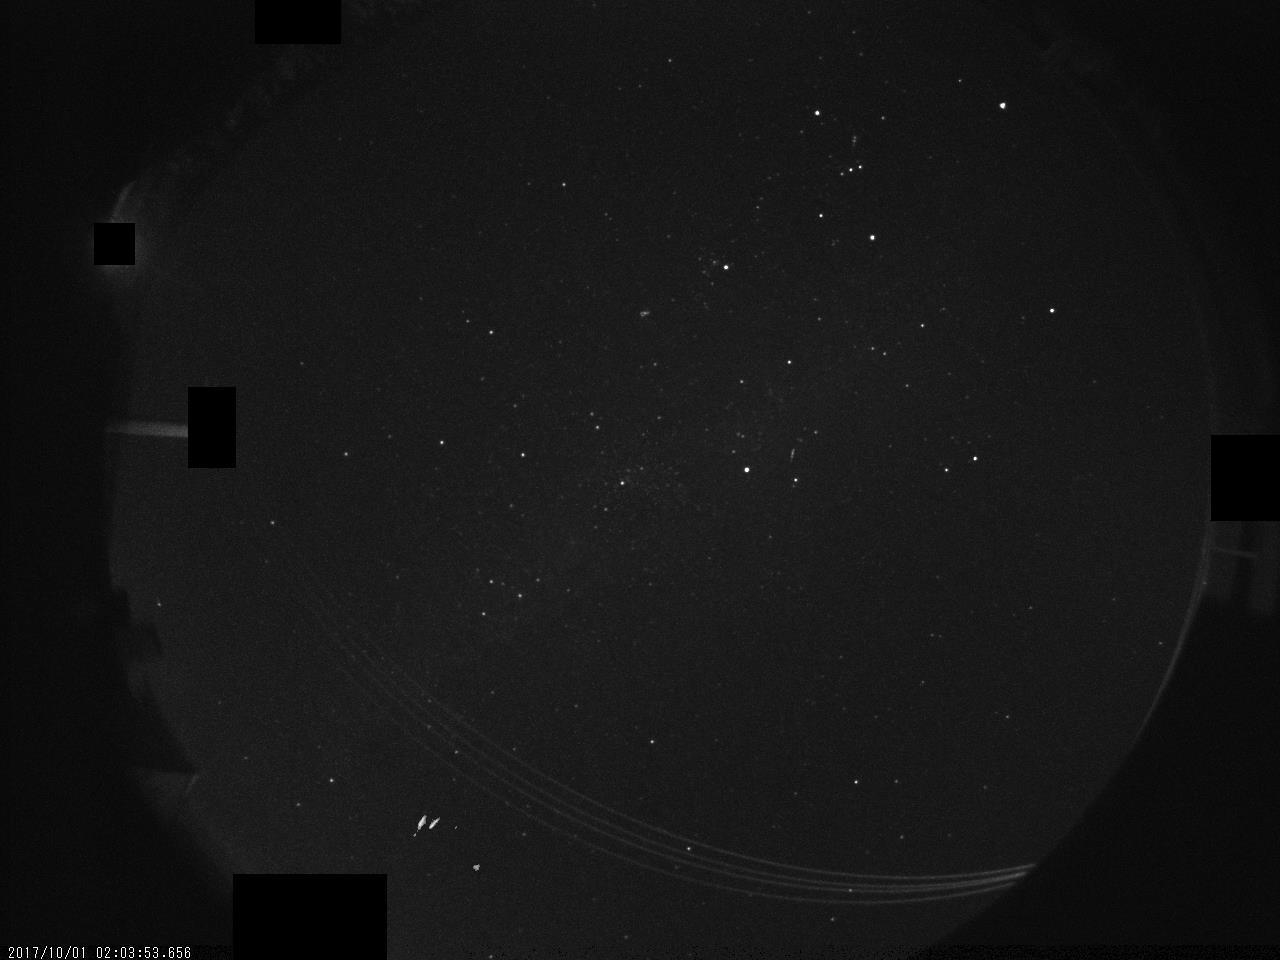TLE: (386, 793, 526, 884)
